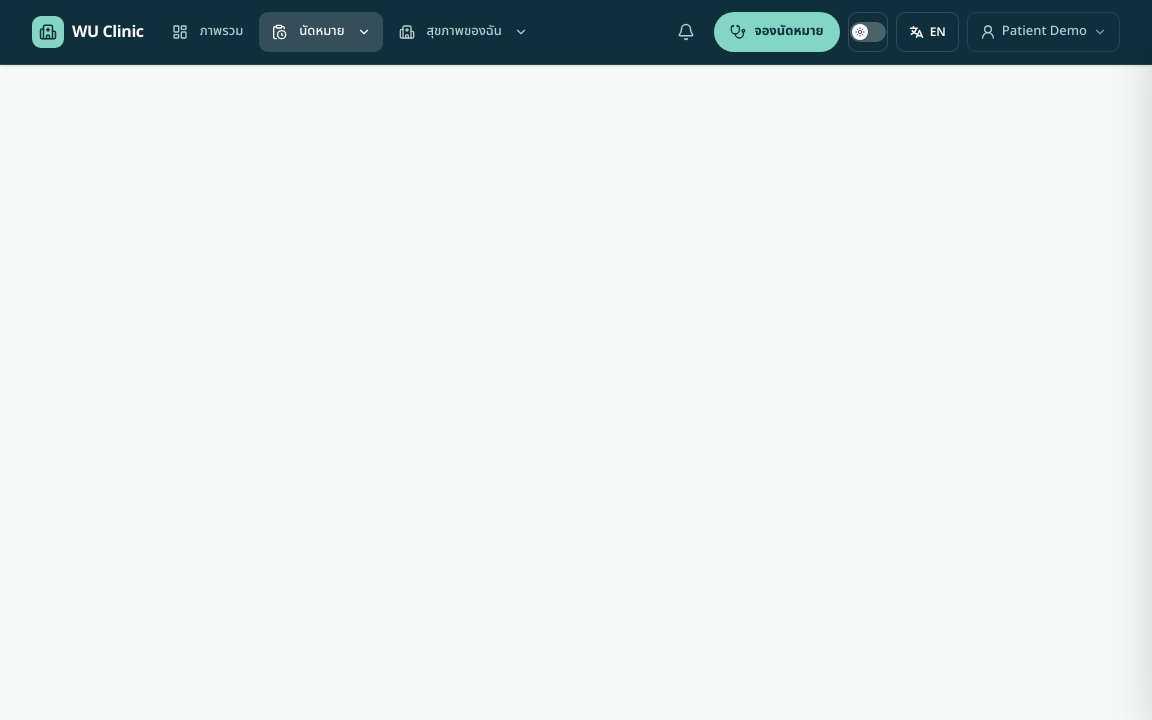
Scenario: Header › opens password security inside the account drawer
Step 1. Click the button with aria-label "เปิดเมนูบัญชีผู้ใช้" → (1043, 32), box [967,12,1120,52]
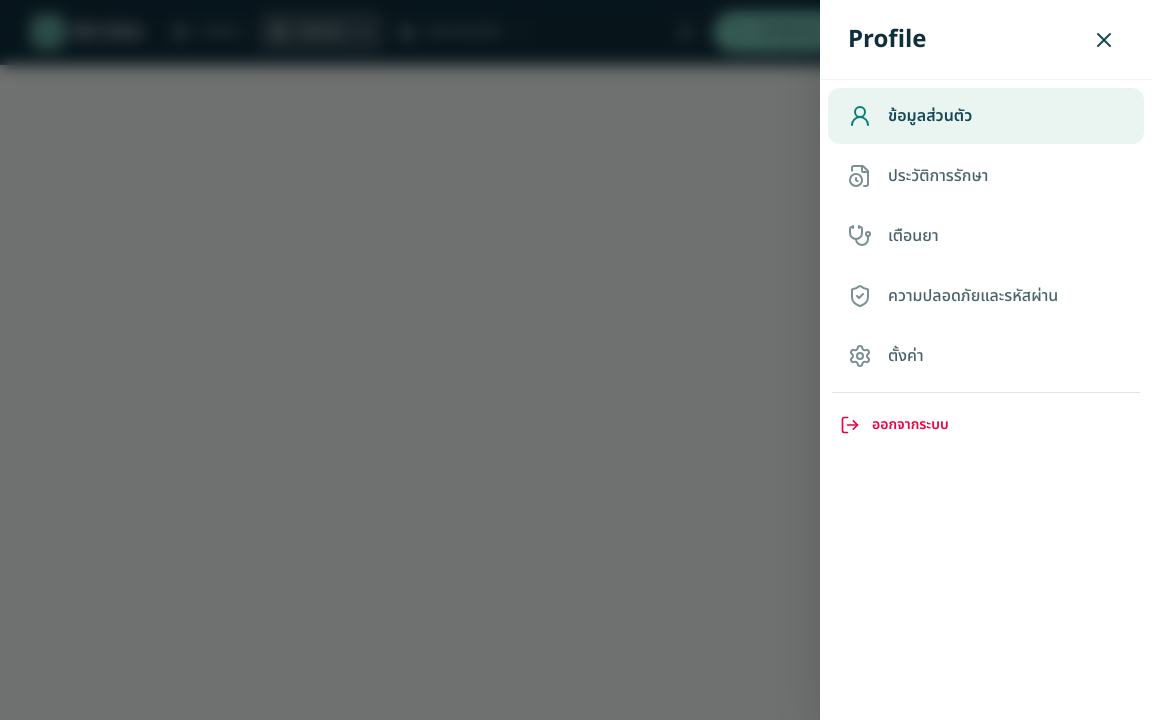
Step 2. Click the button "ความปลอดภัยและรหัสผ่าน" → (986, 296), box [828,268,1144,324]
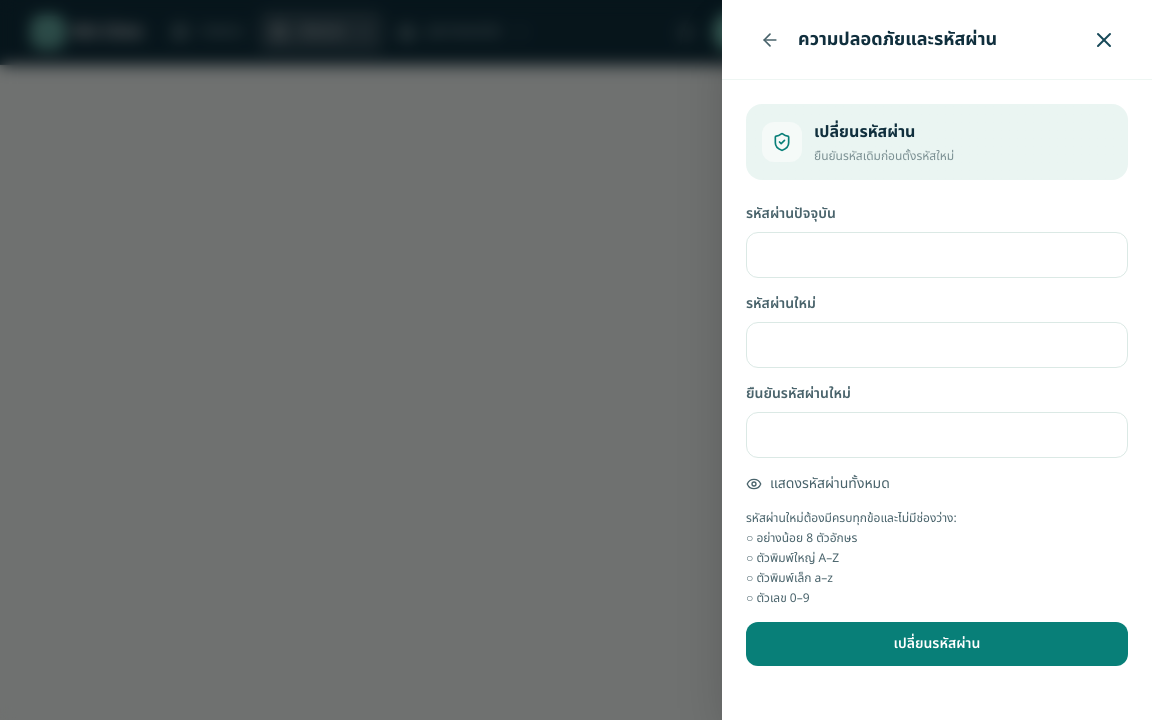
Now the heading "ความปลอดภัยและรหัสผ่าน" is shown, box [798,26,997,54]
Now the password field labelled "รหัสผ่านปัจจุบัน" is shown, box [746,232,1128,278]
Now the link "ข้อมูลส่วนตัว" is gone
Step 3. Click the button named "กลับไปเมนูบัญชี" → (770, 40), box [750,20,790,60]
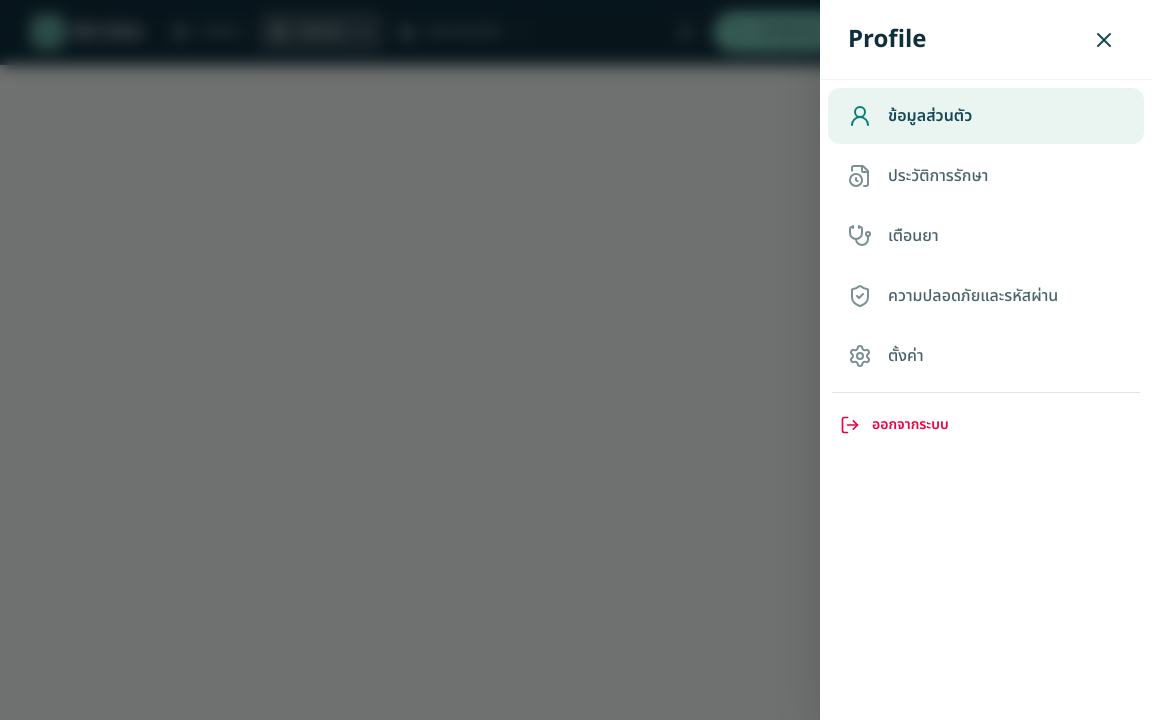
Now the link "ข้อมูลส่วนตัว" is shown, box [828,88,1144,144]
